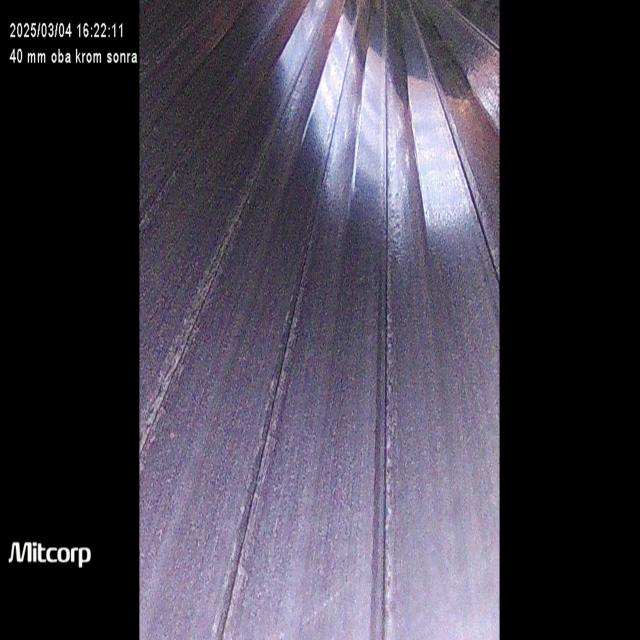hata_8.1: (137, 112, 295, 526)
